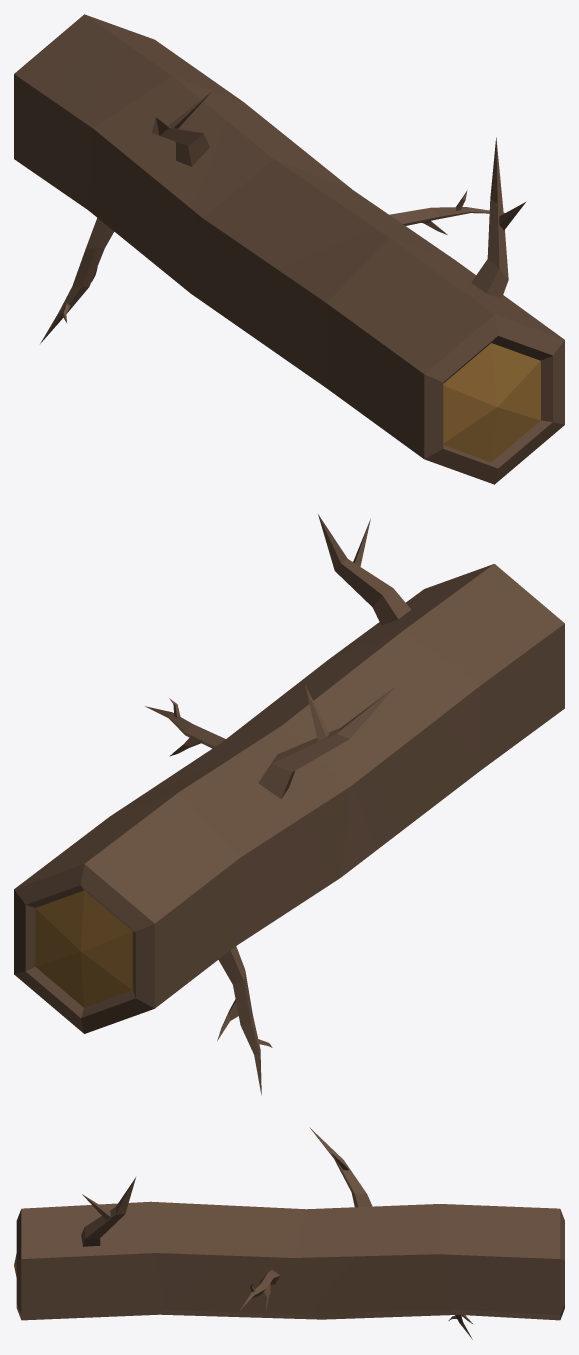
File: tree_pine_log_5.fbx
3 renders of one model, top to bottom at view 1: azimuth 30°, elevation 25°; view 2: azimuth 150°, elevation 25°; view 3: azimuth 270°, elevation 25°, orthographic. The views are drawn at different scales.
Parts seen in each view (by area): view 1: tree_pine_log_5; view 2: tree_pine_log_5; view 3: tree_pine_log_5.
Boxes of the visible parts, left/top/right/bottom form: tree_pine_log_5: left=14, top=14, right=564, bottom=484; tree_pine_log_5: left=14, top=514, right=564, bottom=1095; tree_pine_log_5: left=14, top=1127, right=564, bottom=1339.
Bounding box in the file's own units: 168 × 183 × 400.
